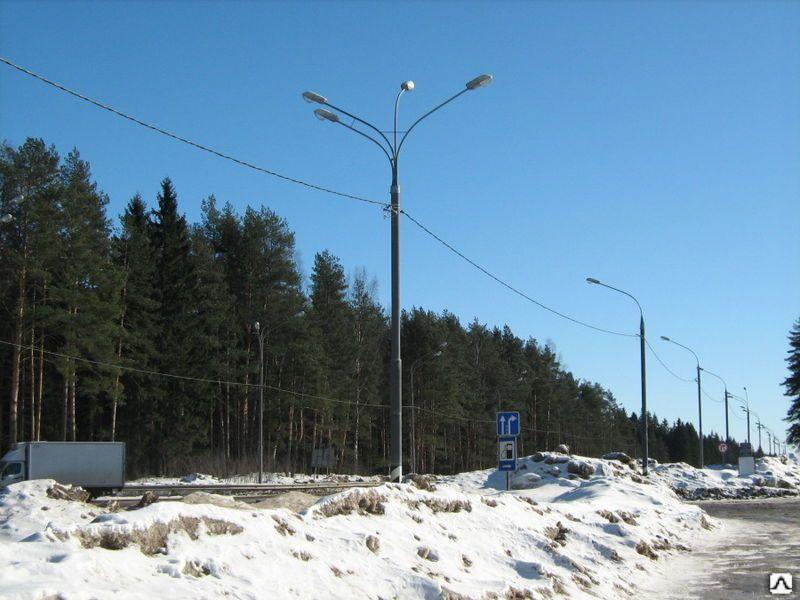Animal: (286, 59, 497, 527), (586, 260, 656, 466), (659, 329, 701, 461), (709, 359, 732, 456), (743, 395, 754, 461)
